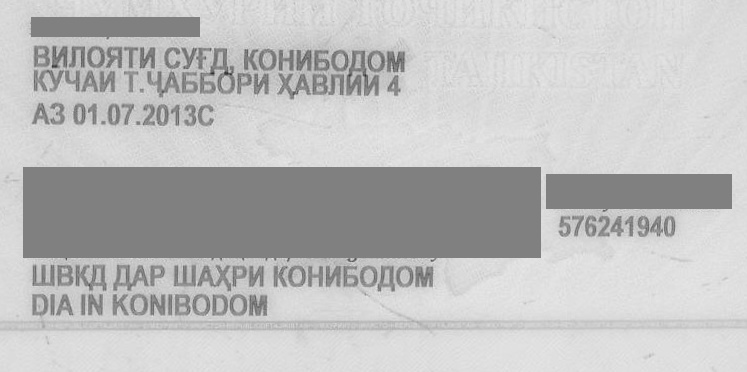0: (660, 211, 680, 239), (71, 98, 89, 128), (154, 99, 172, 129), (107, 98, 123, 128)
1: (623, 211, 639, 239), (88, 98, 100, 128), (170, 99, 182, 129)
2: (595, 211, 615, 239), (141, 99, 157, 129)
3: (45, 98, 69, 128), (183, 99, 199, 129)
4: (386, 64, 406, 104), (608, 211, 628, 239), (648, 211, 666, 239)
5: (555, 211, 575, 239)
6: (583, 211, 601, 239)
7: (571, 211, 589, 239), (121, 98, 137, 128)
9: (635, 211, 653, 239)
А: (425, 38, 503, 96), (198, 257, 220, 295), (82, 61, 102, 99), (164, 62, 184, 100), (294, 64, 312, 102), (132, 257, 150, 295)
Б: (561, 41, 591, 99), (314, 35, 334, 93), (194, 63, 214, 101), (339, 257, 359, 295), (182, 62, 198, 100)
В: (35, 28, 51, 86), (310, 64, 330, 102), (55, 257, 75, 295)
Д: (209, 32, 245, 90), (347, 35, 367, 93), (87, 257, 115, 295), (114, 257, 134, 295), (377, 257, 397, 295)
И: (138, 30, 172, 88), (48, 28, 68, 86), (295, 34, 315, 92), (252, 63, 280, 101), (361, 65, 387, 103), (246, 257, 272, 295), (99, 61, 123, 99), (342, 65, 362, 103), (323, 257, 343, 295)
К: (509, 40, 559, 98), (239, 33, 263, 91), (73, 257, 89, 295), (36, 61, 48, 99), (277, 257, 287, 295)
Л: (67, 28, 87, 86), (328, 64, 346, 102)
М: (381, 36, 415, 94), (411, 257, 443, 295)
Н: (277, 34, 297, 92), (303, 257, 323, 295)
О: (85, 29, 105, 87), (260, 33, 280, 91), (364, 36, 384, 94), (333, 35, 351, 93), (216, 63, 238, 101), (285, 257, 305, 295), (357, 257, 377, 295), (393, 257, 413, 295)
Р: (149, 257, 173, 295), (236, 63, 254, 101), (227, 257, 245, 295)
С: (166, 31, 184, 89), (198, 100, 222, 128)
Т: (127, 30, 145, 88), (117, 62, 141, 100)
У: (182, 31, 200, 89), (49, 61, 65, 99)
Ч: (59, 61, 79, 99), (143, 62, 161, 100)
Ш: (33, 257, 53, 295), (175, 257, 195, 295)
Я: (101, 29, 125, 87)
Ғ: (198, 32, 214, 90)
Ҳ: (279, 64, 295, 102), (218, 257, 232, 295)
